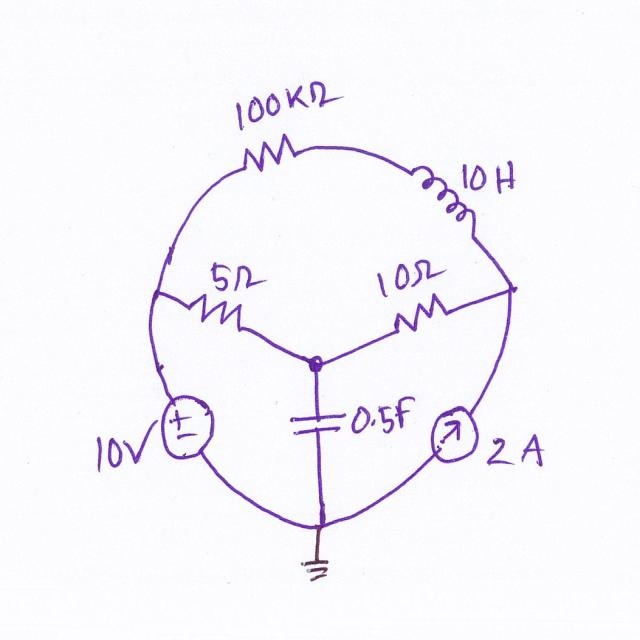capacitor: (284, 410, 354, 453)
current_source: (426, 401, 483, 472)
ground: (286, 541, 348, 595)
inductor: (408, 147, 481, 241)
resistor: (183, 278, 252, 339), (238, 128, 304, 190), (390, 287, 456, 345)
voltage_source: (159, 384, 218, 470)
